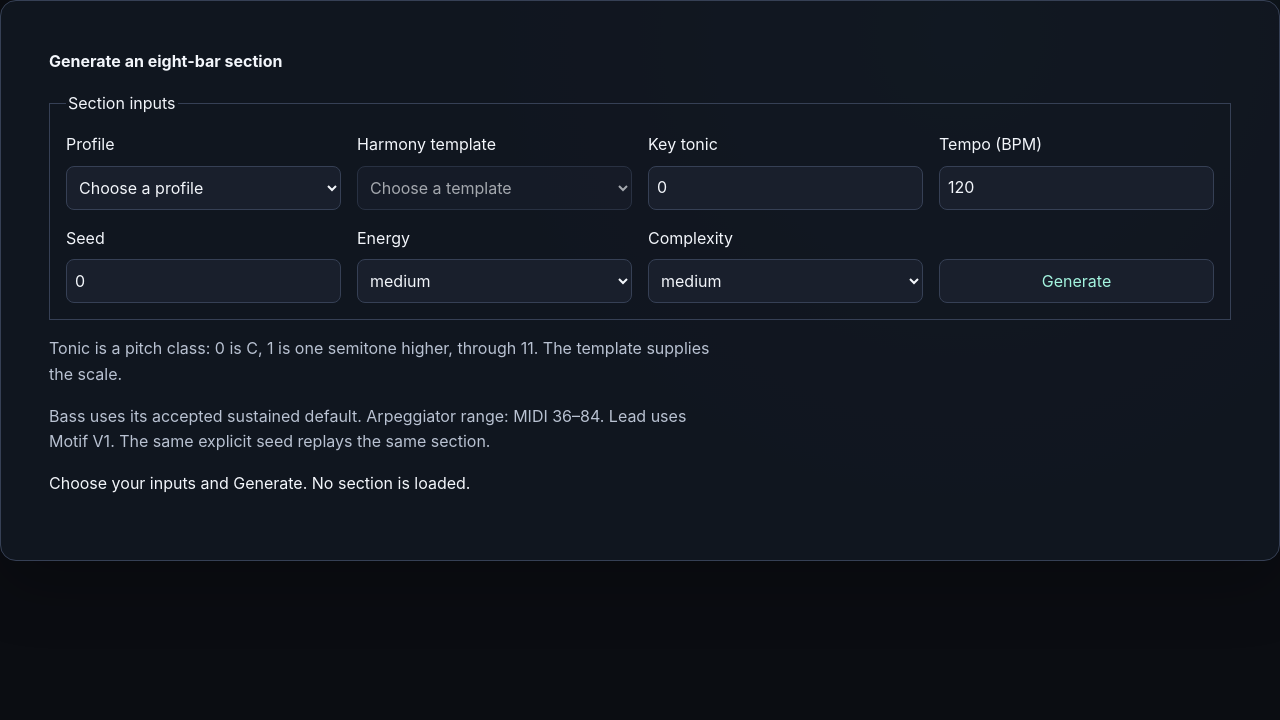
Test: ADR042 retained Arpeggiator browser interaction › exposes nothing before complete bootstrap, forwards original source/request/history and labels native controls
Select "dark-synthwave" in the dropdown labelled "Profile": x=204, y=188 [66,166,341,210]
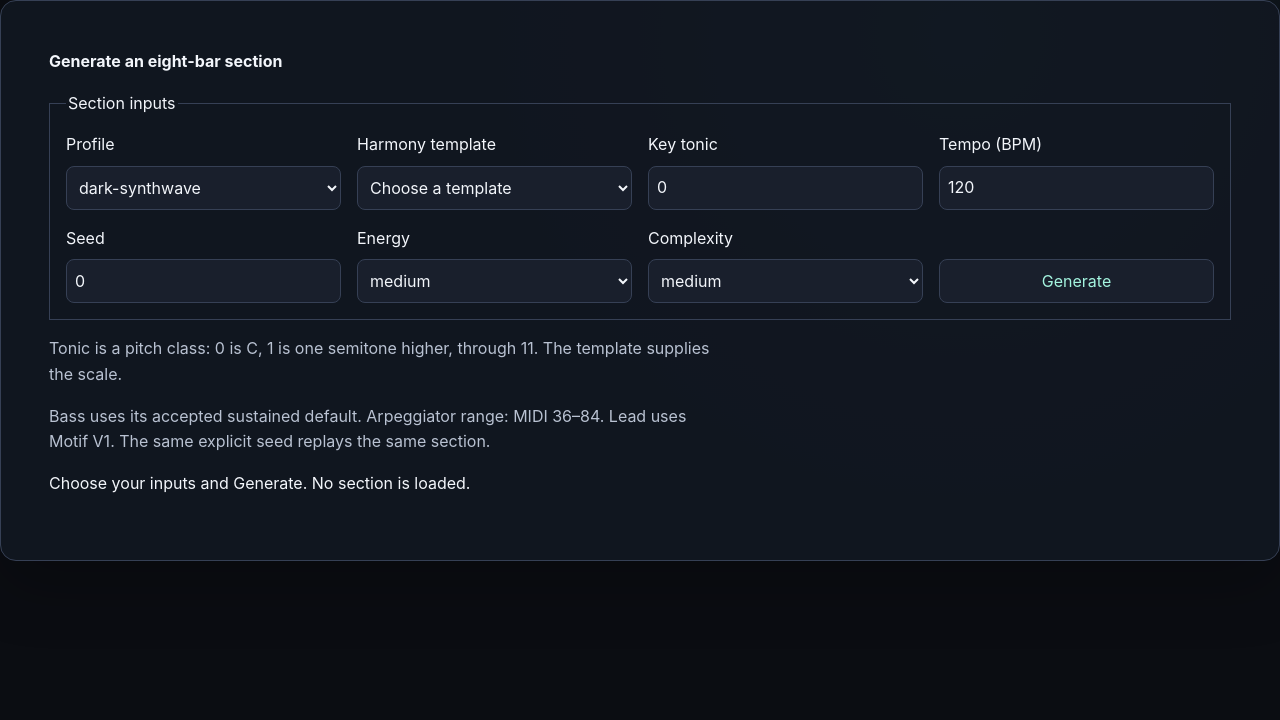
Select "degree-0654-natural-minor-v1 (natural-minor)" in the dropdown labelled "Harmony template": x=494, y=188 [357,166,632,210]
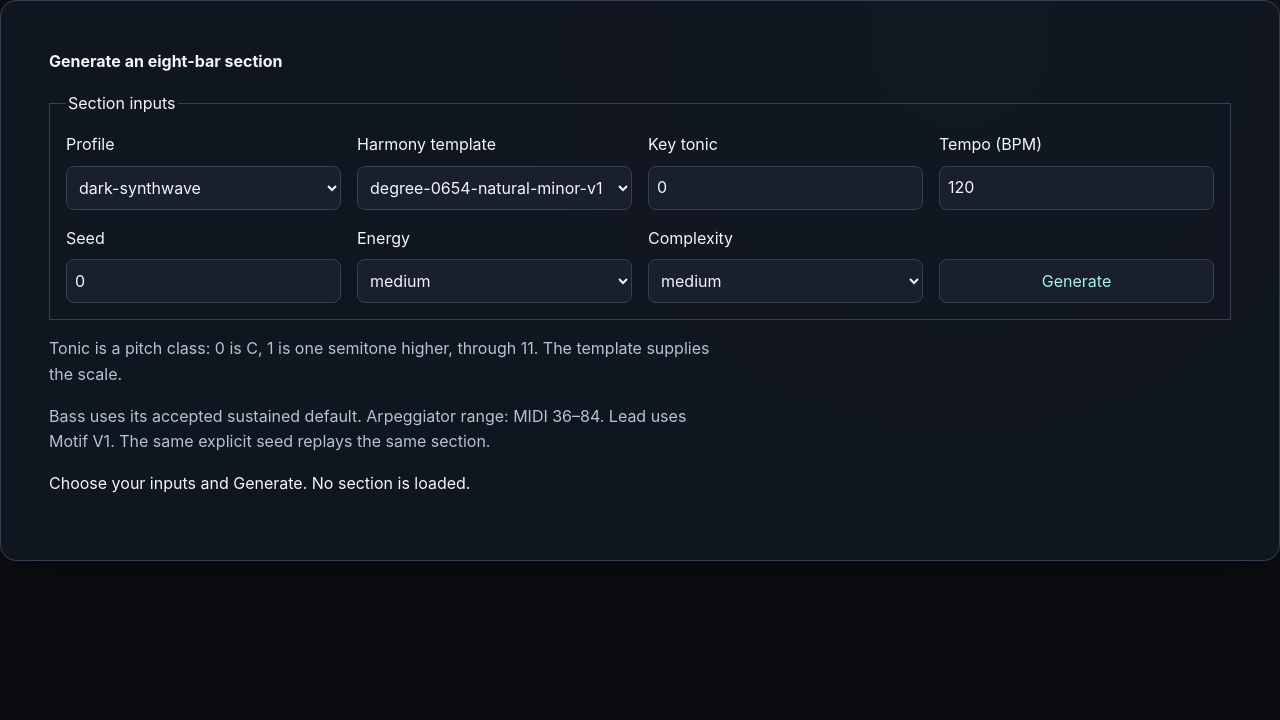
Click the button "Generate": x=1076, y=281 [939,259,1214,303]
(page scrolled)
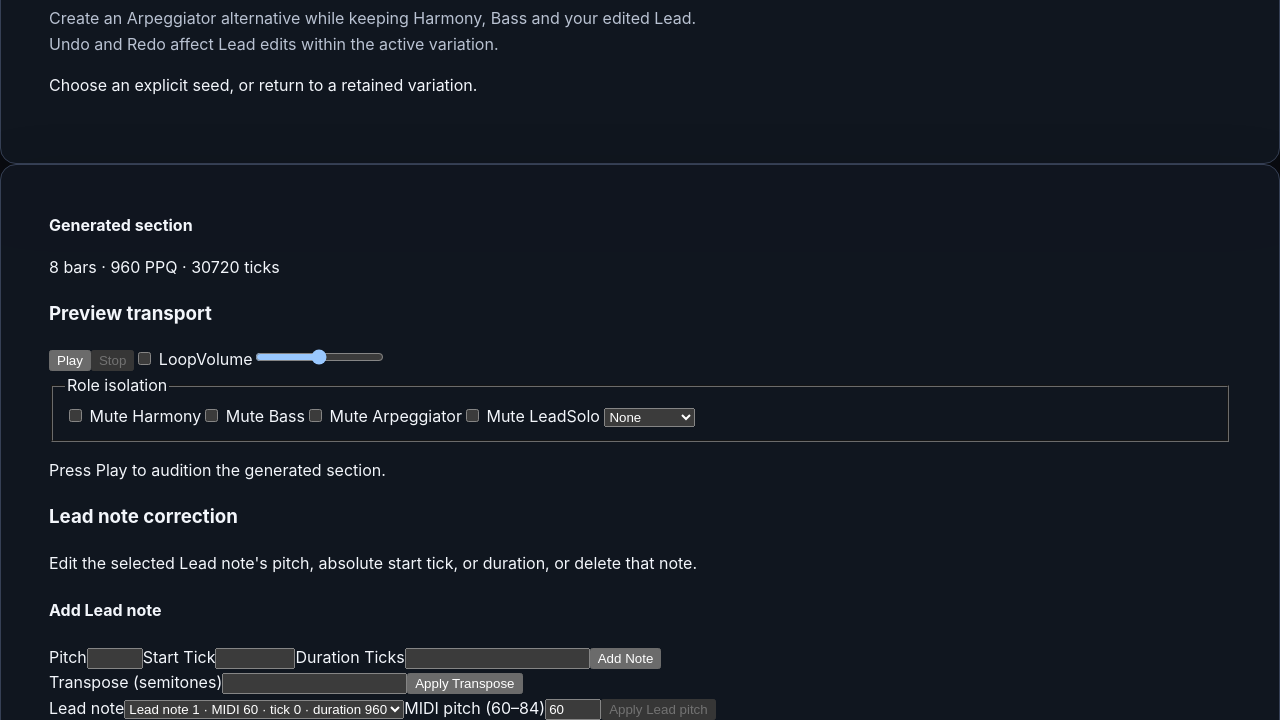
Expected: the button "Apply Lead pitch" is shown, [601,699,716,719]
Expected: the button "Play" is shown, [49,350,91,372]
